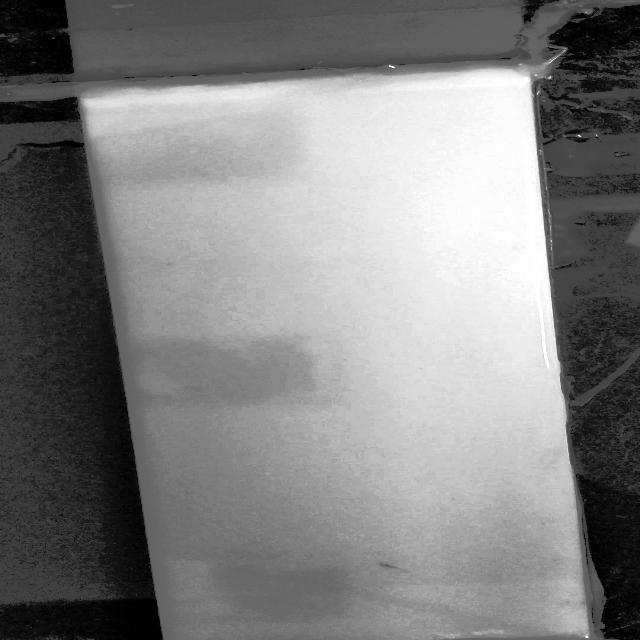shrimp: (375, 558, 417, 575)
